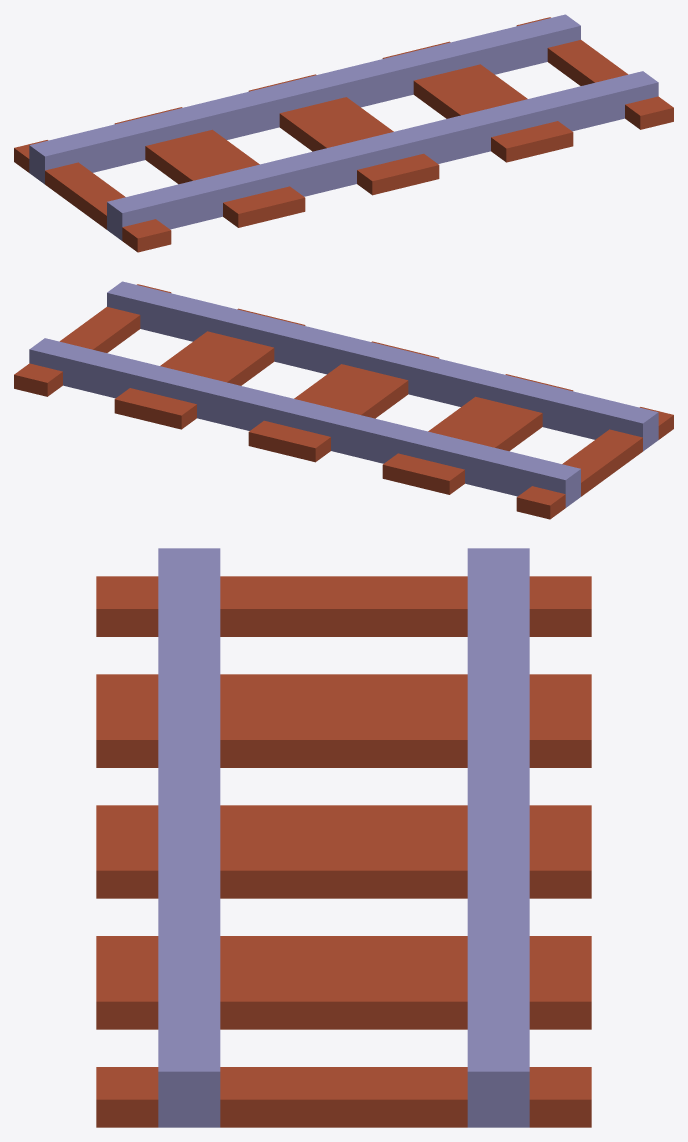
File: TrainTrack1.fbx
The picture shows the model from 3 angles, top to bottom: view 1: azimuth 30°, elevation 25°; view 2: azimuth 150°, elevation 25°; view 3: azimuth 270°, elevation 25°; orthographic projection. The views are drawn at different scales.
Visible parts, largest first — view 1: mergedBlocks; view 2: mergedBlocks; view 3: mergedBlocks.
Boxes of the visible parts, bbox=[...] form: mergedBlocks: bbox=[14, 14, 673, 252]; mergedBlocks: bbox=[14, 281, 673, 519]; mergedBlocks: bbox=[96, 548, 591, 1127].
Size of the model in its own units: 10 by 0.5 by 4.
